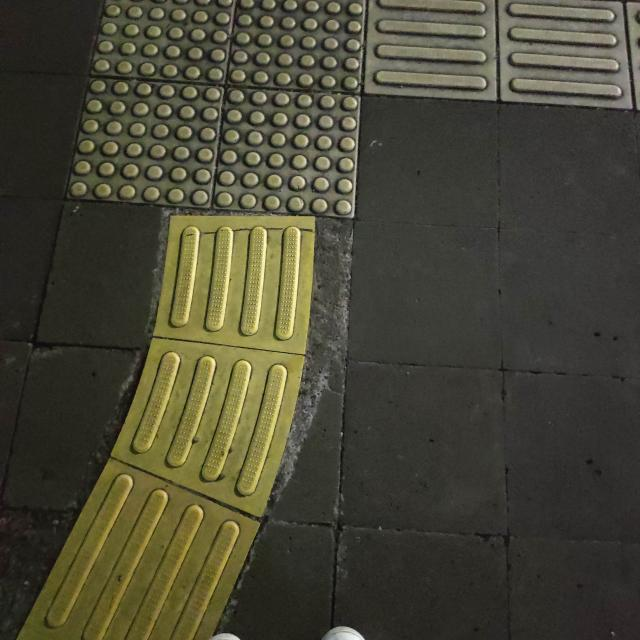kanan: (82, 0, 587, 305)
